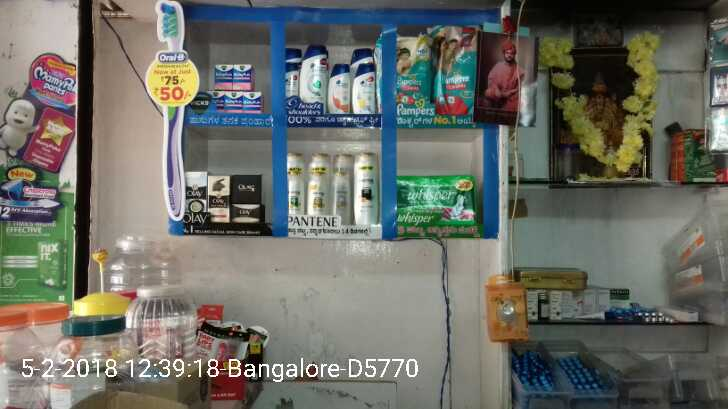beauty: (303, 45, 328, 113), (355, 152, 376, 231), (328, 170, 349, 224), (305, 175, 328, 224), (331, 63, 352, 111), (232, 172, 263, 203), (357, 63, 375, 113), (207, 179, 231, 216), (232, 203, 257, 220)
pharmacy: (425, 26, 476, 113), (394, 165, 470, 223), (392, 31, 430, 105), (234, 60, 254, 91), (244, 90, 261, 112), (216, 62, 230, 88)
